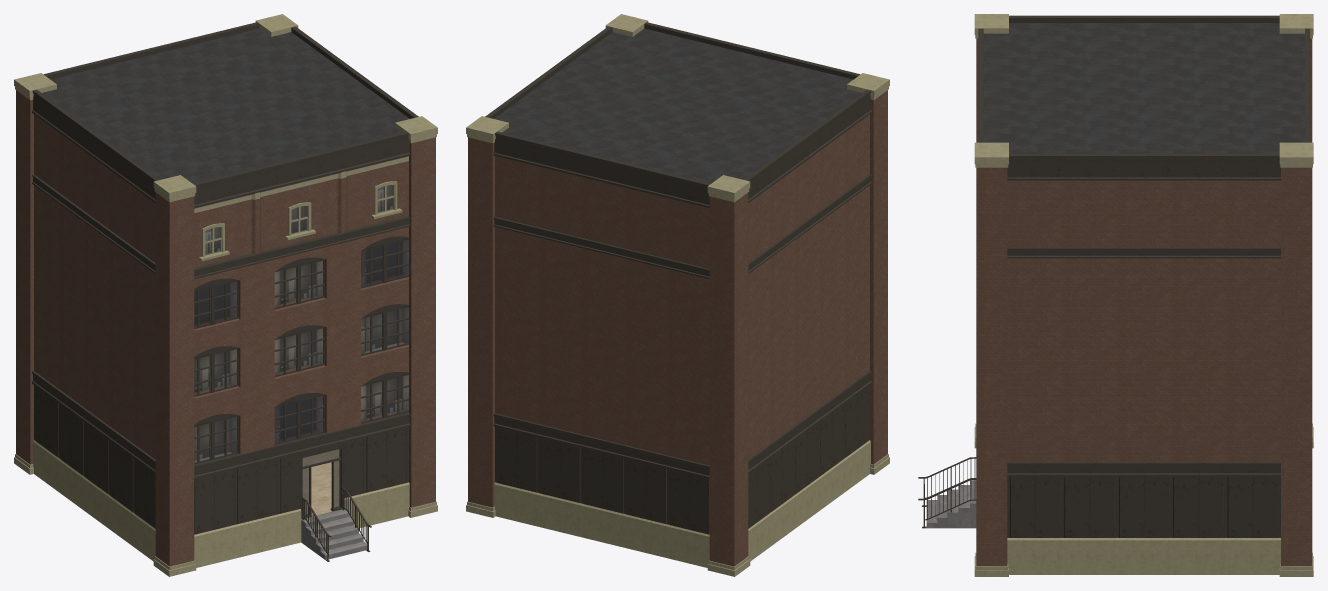
File: bld-Small_1.glb
3 renders of one model, left to right at view 1: azimuth 30°, elevation 25°; view 2: azimuth 150°, elevation 25°; view 3: azimuth 270°, elevation 25°, orthographic. The views are drawn at different scales.
Parts seen in each view (by area): view 1: Building_Small_1; view 2: Building_Small_1; view 3: Building_Small_1.
Part boxes in pixels (box(x1,y1,x2,y2)): Building_Small_1: box(14, 14, 437, 576); Building_Small_1: box(466, 14, 889, 576); Building_Small_1: box(918, 14, 1313, 576).
Size of the model in its own units: 12.46 by 17.03 by 14.54.
10 materials, 9 textured.
